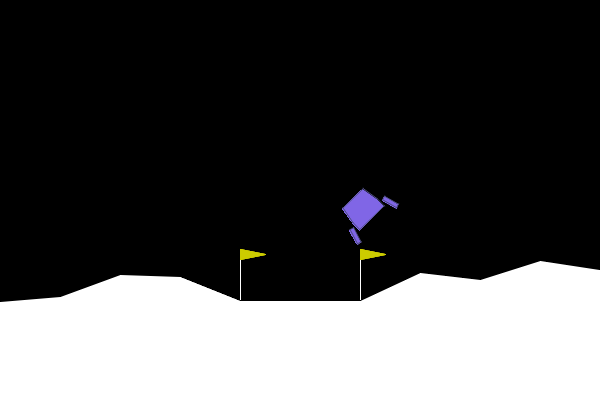lander: (330, 176, 401, 247)
